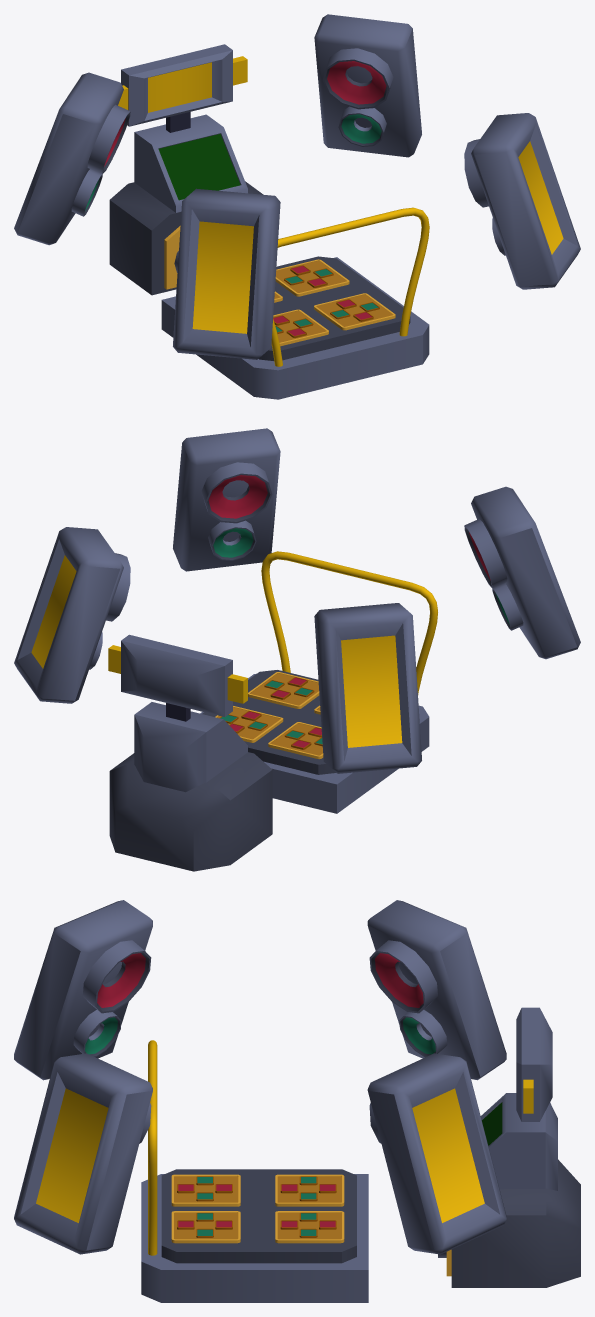
The model's file is FunMediumLvl3DanceMachine.fbx.
3 renders of one model, top to bottom at view 1: azimuth 30°, elevation 25°; view 2: azimuth 150°, elevation 25°; view 3: azimuth 270°, elevation 25°, orthographic. The views are drawn at different scales.
Parts seen in each view (by area): view 1: M3DanceMachine; view 2: M3DanceMachine; view 3: M3DanceMachine.
Boxes of the visible parts, left/top/right/bottom form: M3DanceMachine: left=14, top=14, right=580, bottom=399; M3DanceMachine: left=14, top=428, right=580, bottom=871; M3DanceMachine: left=14, top=900, right=580, bottom=1302.
Bounding box in the file's own units: 178 × 98.55 × 192.
